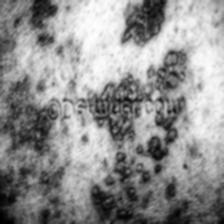Toxin: (114, 0, 168, 60), (99, 186, 125, 214)
